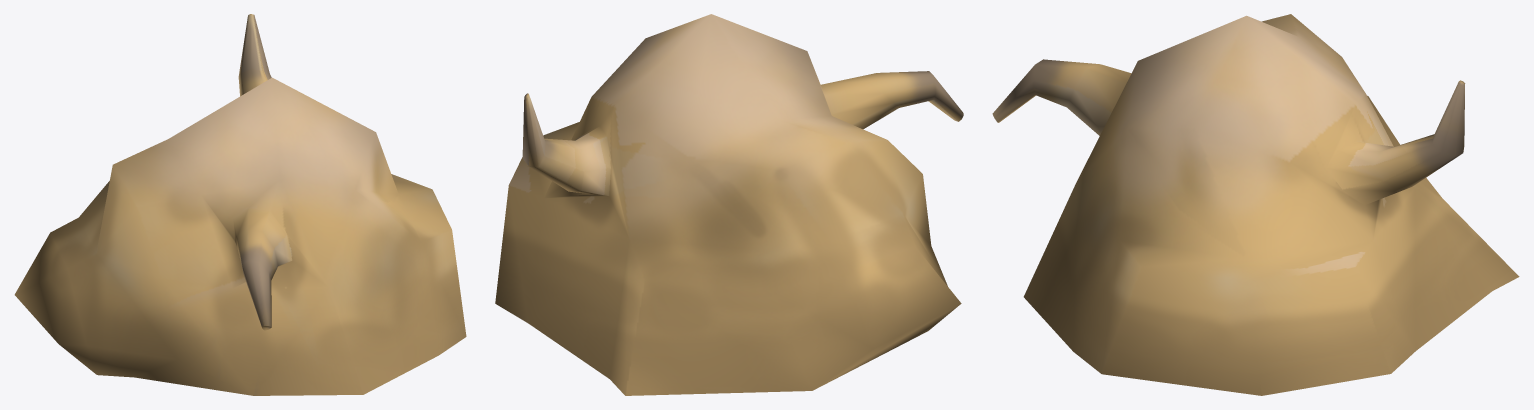
The model's file is TaurotHouse.fbx.
3 views of the same model, side by side, from view 1: azimuth 30°, elevation 25°; view 2: azimuth 150°, elevation 25°; view 3: azimuth 270°, elevation 25° (orthographic). The views are drawn at different scales.
Parts seen in each view (by area): view 1: Cube; view 2: Cube; view 3: Cube.
Boxes of the visible parts, <box> form: Cube: <box>14,14,466,395</box>; Cube: <box>495,14,963,395</box>; Cube: <box>992,14,1519,395</box>.
Size of the model in its own units: 11.94 by 7.2 by 12.11.
